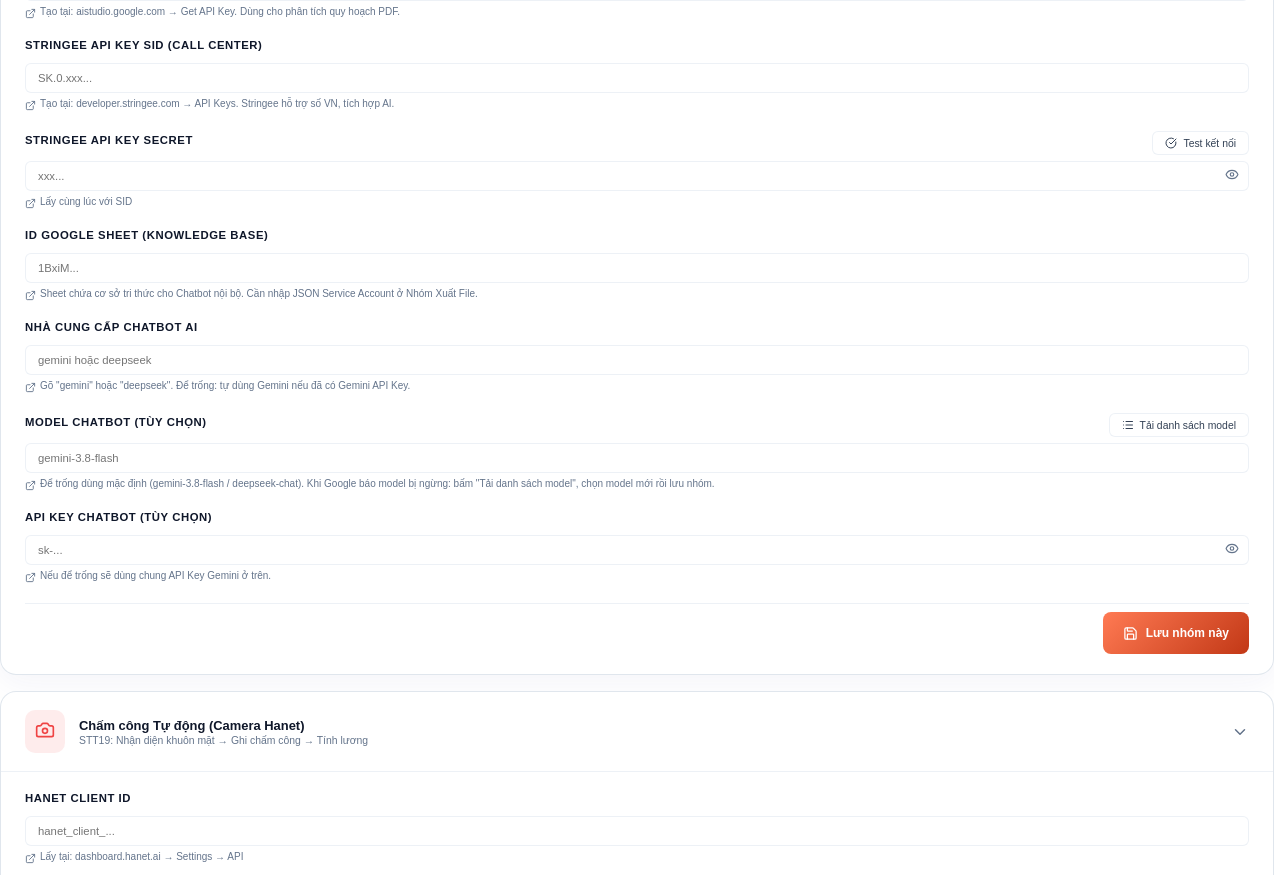
Test: Settings › loads the Gemini models the key can use as suggestions for the chatbot model
(page scrolled)
Click the button "Tải danh sách model" at (1179, 425), box 1108,413 -> 1249,437
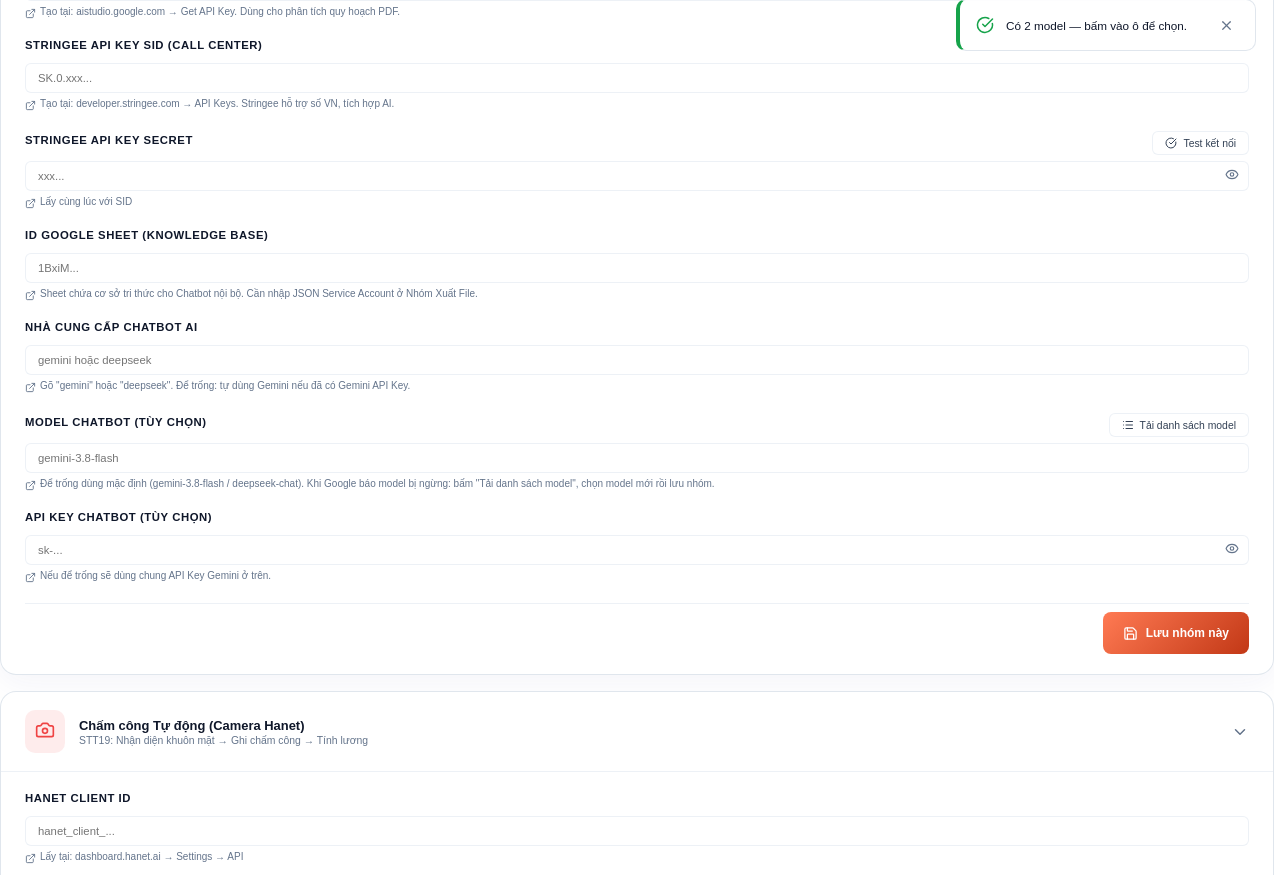
expect the text "Có 2 model — bấm vào ô để chọn." is shown: met, box 1006,16 -> 1197,34
